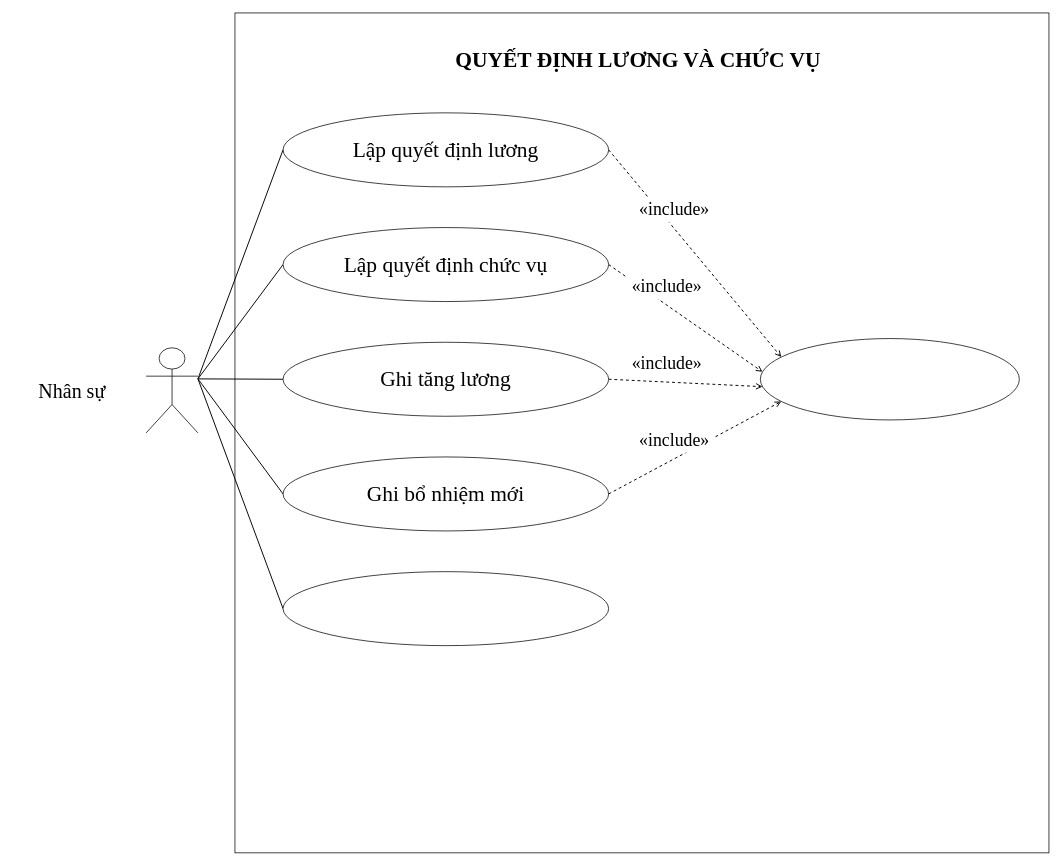
Image size: 1062x866. Some labels were removed from this diagram. The centre of each missing label's shape, as x and y in pixels:
"Kiểm tra hợp đồng và khoảng hiệu lực" goes at (x=889, y=379).
"Tra cứu lịch sử quyết định" goes at (x=445, y=608).
